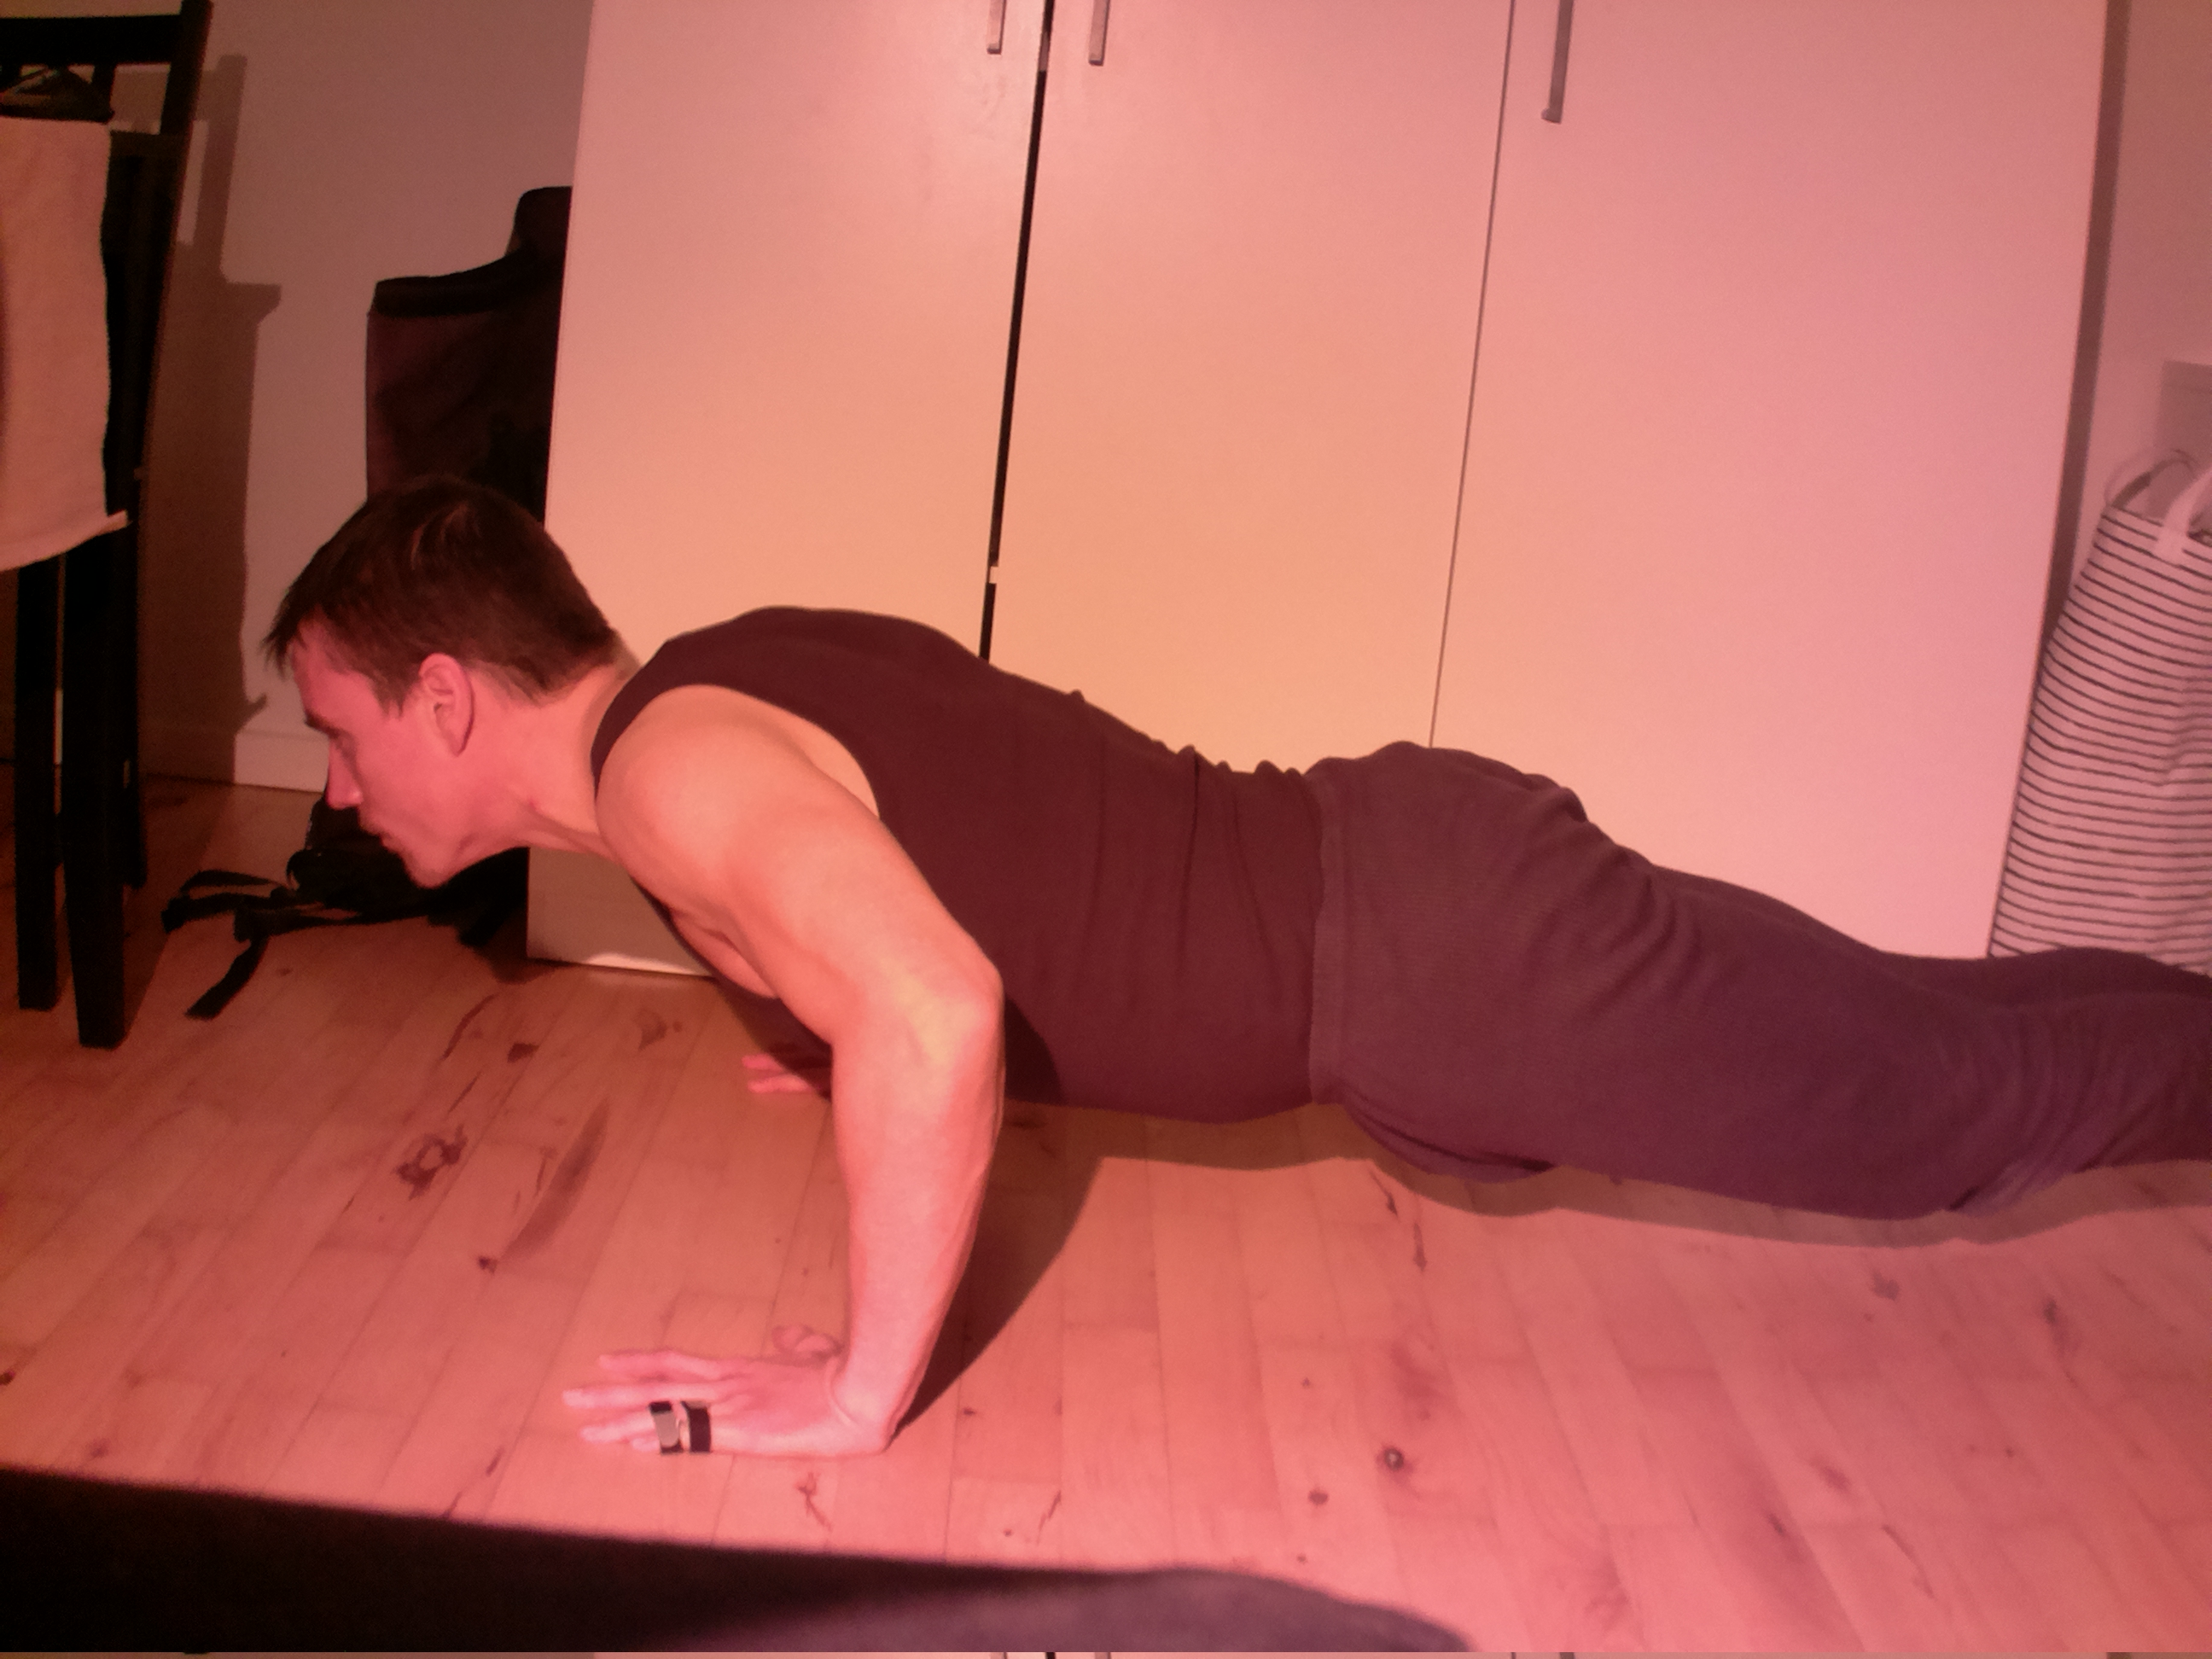CONAN: (237, 464, 1562, 1483)
